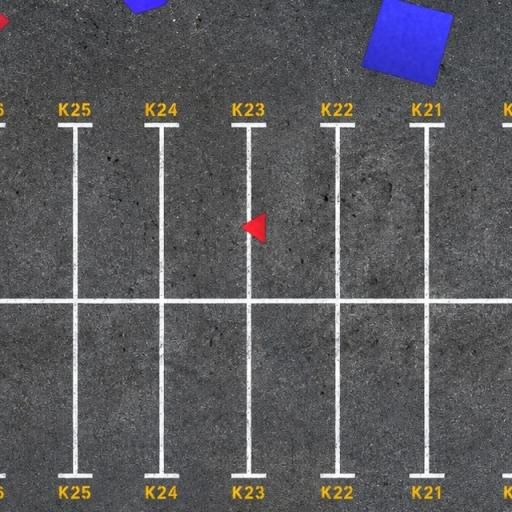BLUE_SQUARE: (361, 0, 455, 88)
